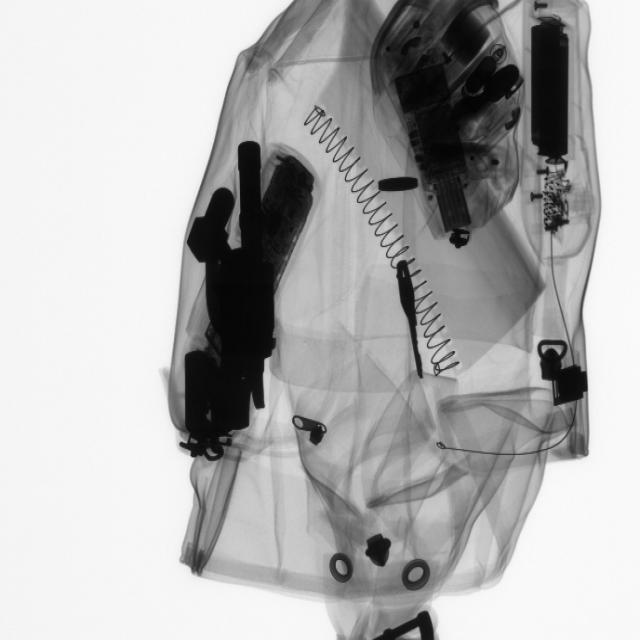GUN: (186, 129, 286, 482)
